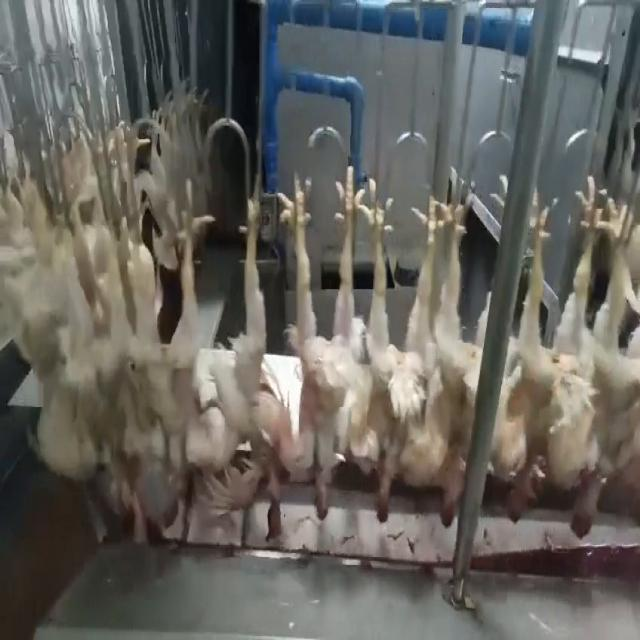chicken: (174, 176, 270, 527), (277, 166, 368, 522), (401, 181, 495, 524), (495, 179, 583, 523), (569, 174, 639, 542), (350, 180, 403, 529), (107, 210, 163, 529)
